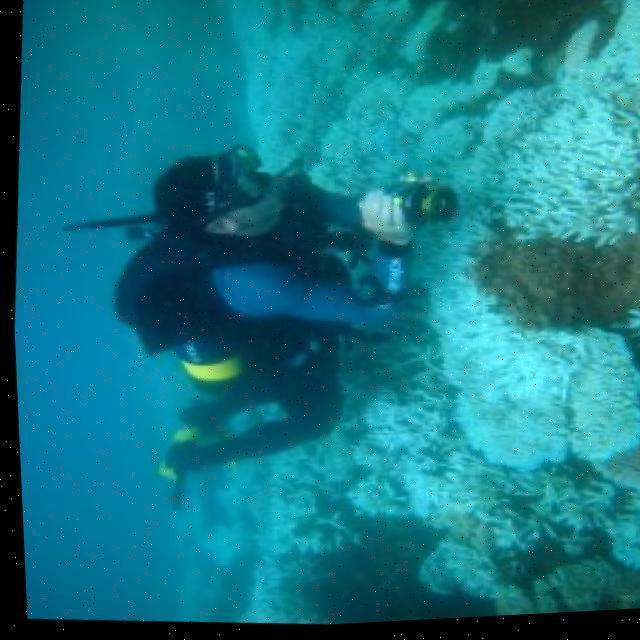Bleached Coral: (407, 308, 640, 624), (210, 0, 473, 175), (469, 49, 640, 264), (266, 349, 446, 553)
